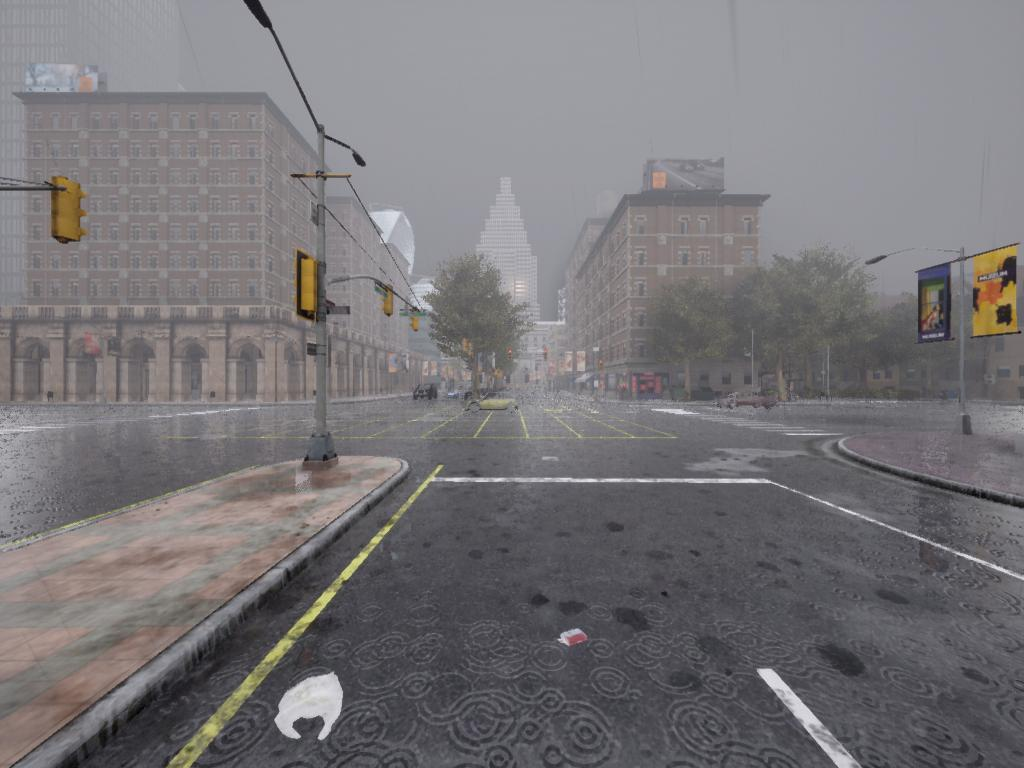traffic_light: (971, 253, 1016, 341), (53, 177, 93, 244), (296, 254, 325, 319), (380, 286, 395, 316), (407, 313, 420, 334), (412, 314, 424, 334), (543, 351, 551, 362), (599, 360, 606, 372), (508, 350, 514, 363)
